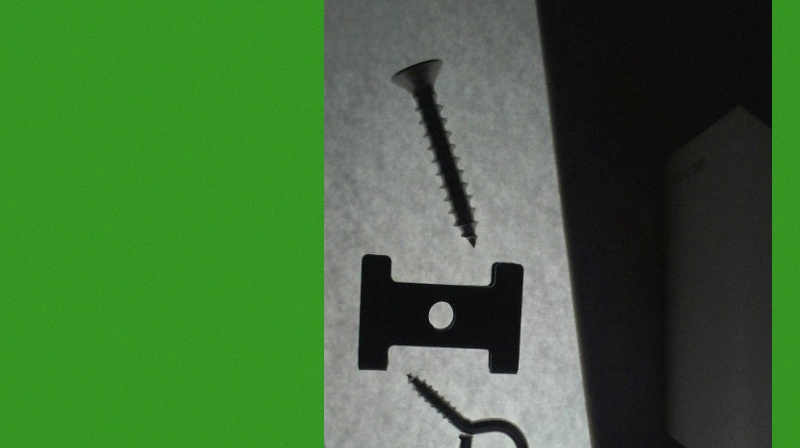O001: (404, 372, 531, 447)
O002: (355, 248, 523, 379)
S001: (390, 55, 480, 250)
